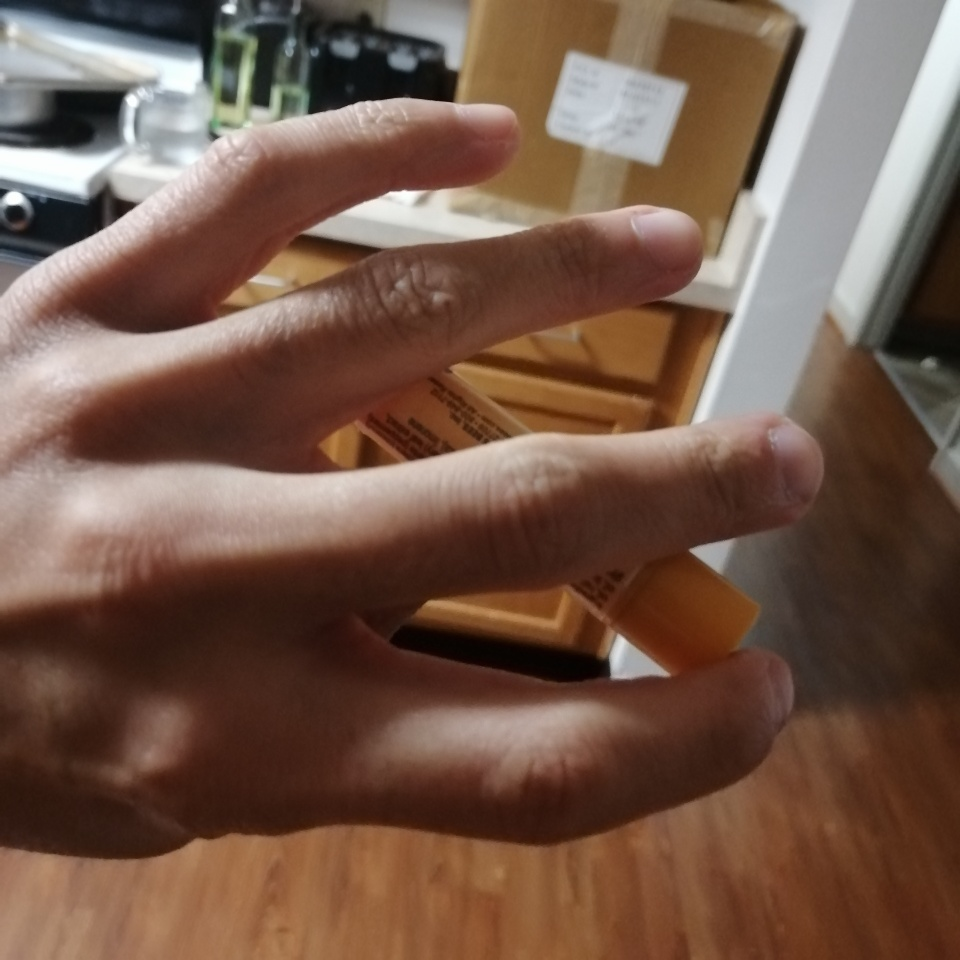chapstick: (351, 361, 763, 677)
